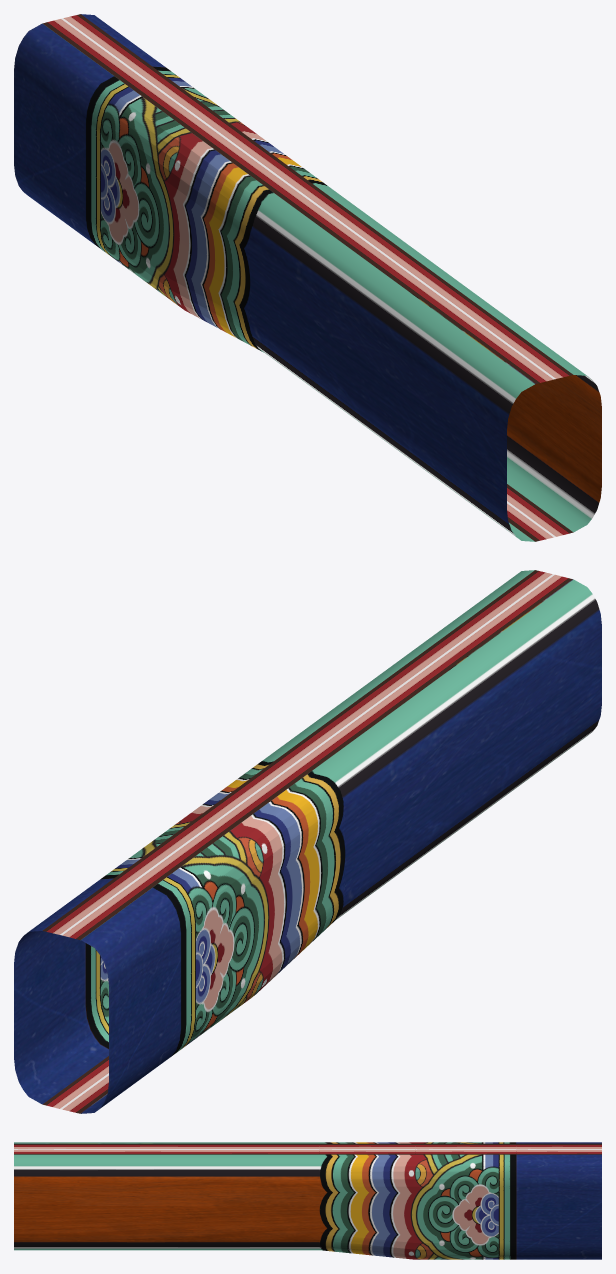
The model's file is SM_Beam08S.fbx.
The picture shows the model from 3 angles, top to bottom: view 1: azimuth 30°, elevation 25°; view 2: azimuth 150°, elevation 25°; view 3: azimuth 270°, elevation 25°; orthographic projection. The views are drawn at different scales.
Parts seen in each view (by area): view 1: SM_Beam08S; view 2: SM_Beam08S; view 3: SM_Beam08S.
Part boxes in pixels (box(x1,y1,x2,y2)): SM_Beam08S: box(14, 14, 601, 541); SM_Beam08S: box(14, 570, 601, 1113); SM_Beam08S: box(14, 1142, 601, 1259).
Bounding box in the file's own units: 16.7 × 150 × 29.22.
